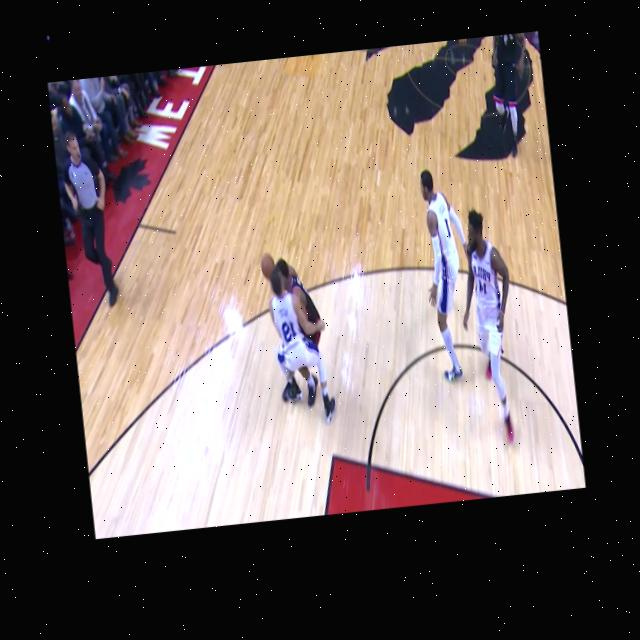Foul: (253, 243, 324, 407)
